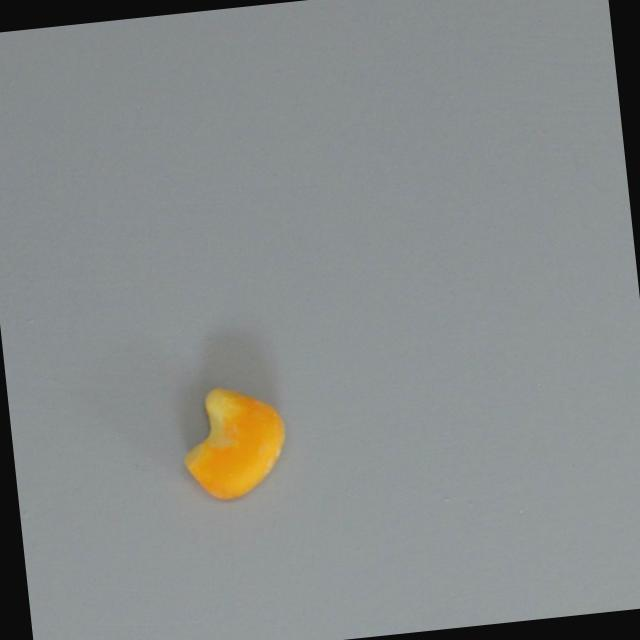pelicula: (175, 380, 291, 503)
